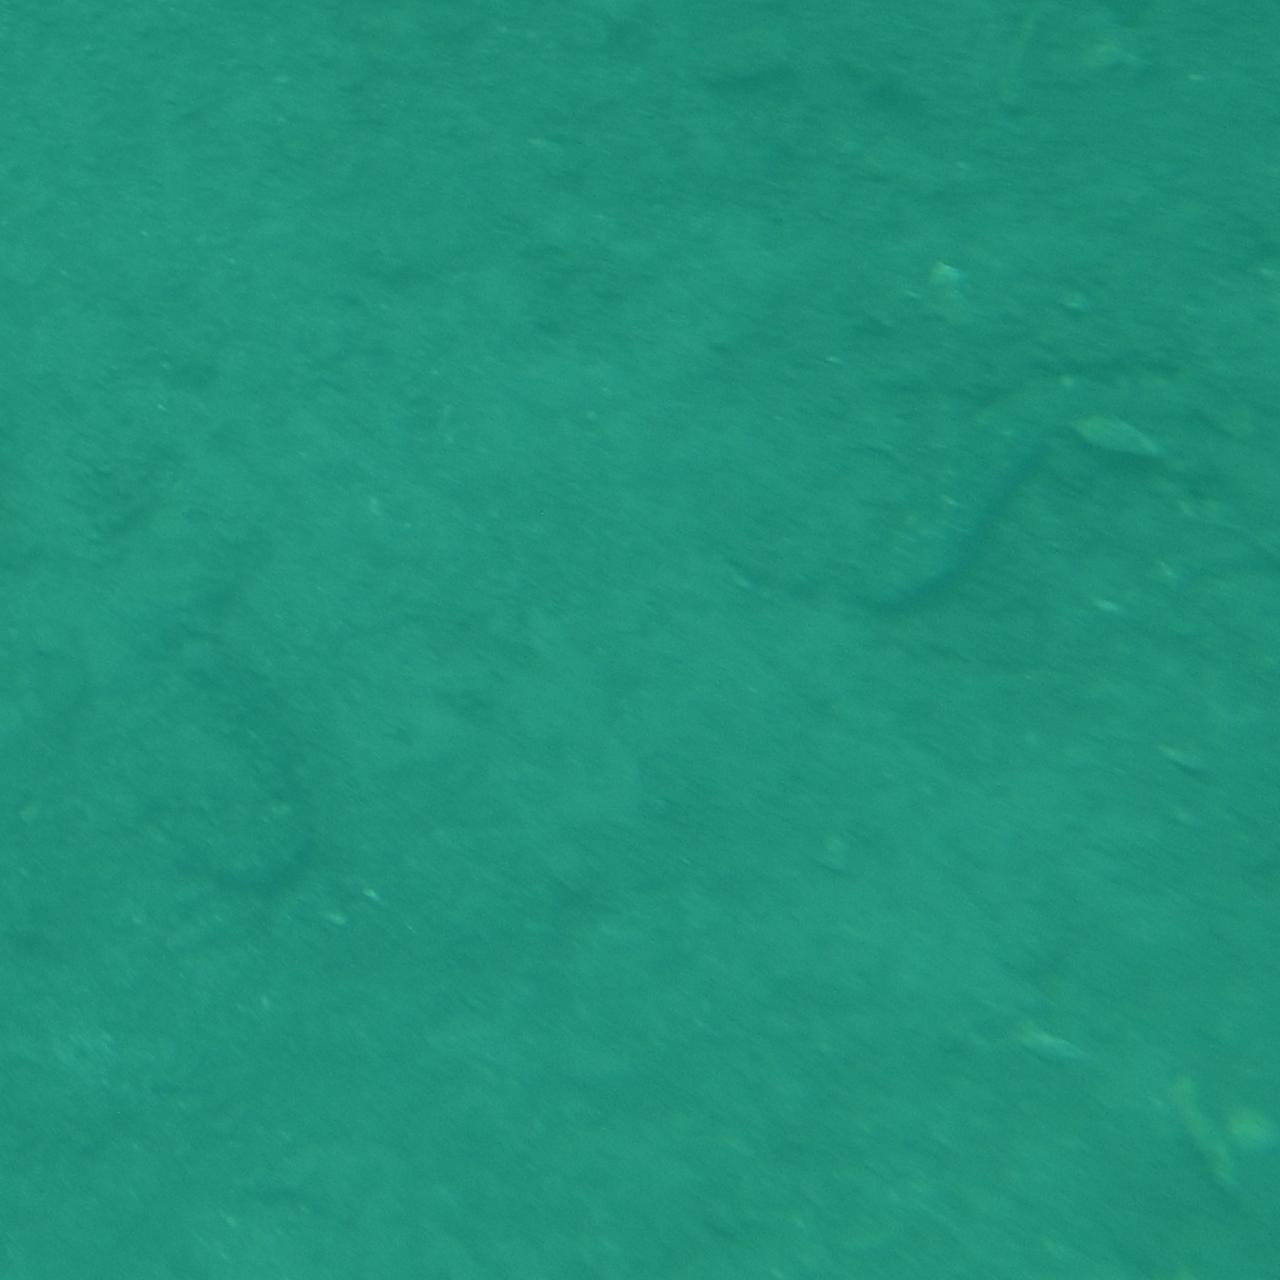Holothuria tubulosa: (842, 363, 1257, 636), (118, 628, 343, 932)
